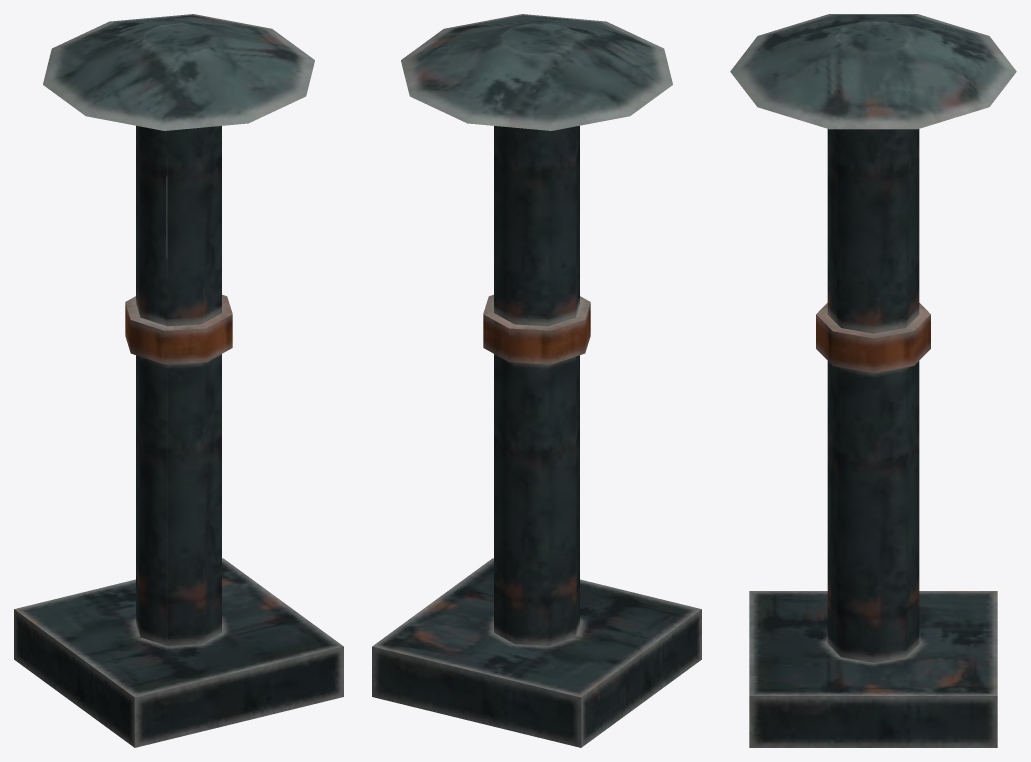
File: vent_stack_0.glb
3 renders of one model, left to right at view 1: azimuth 30°, elevation 25°; view 2: azimuth 150°, elevation 25°; view 3: azimuth 270°, elevation 25°, orthographic. The views are drawn at different scales.
Parts seen in each view (by area): view 1: te_prop_vent_stack_0; view 2: te_prop_vent_stack_0; view 3: te_prop_vent_stack_0.
Boxes of the visible parts, <box> form: te_prop_vent_stack_0: <box>14,14,343,747</box>; te_prop_vent_stack_0: <box>372,14,701,747</box>; te_prop_vent_stack_0: <box>730,14,1016,747</box>.
Bounding box in the file's own units: 0.1427 × 0.38 × 0.15.
1 material, 1 textured.
